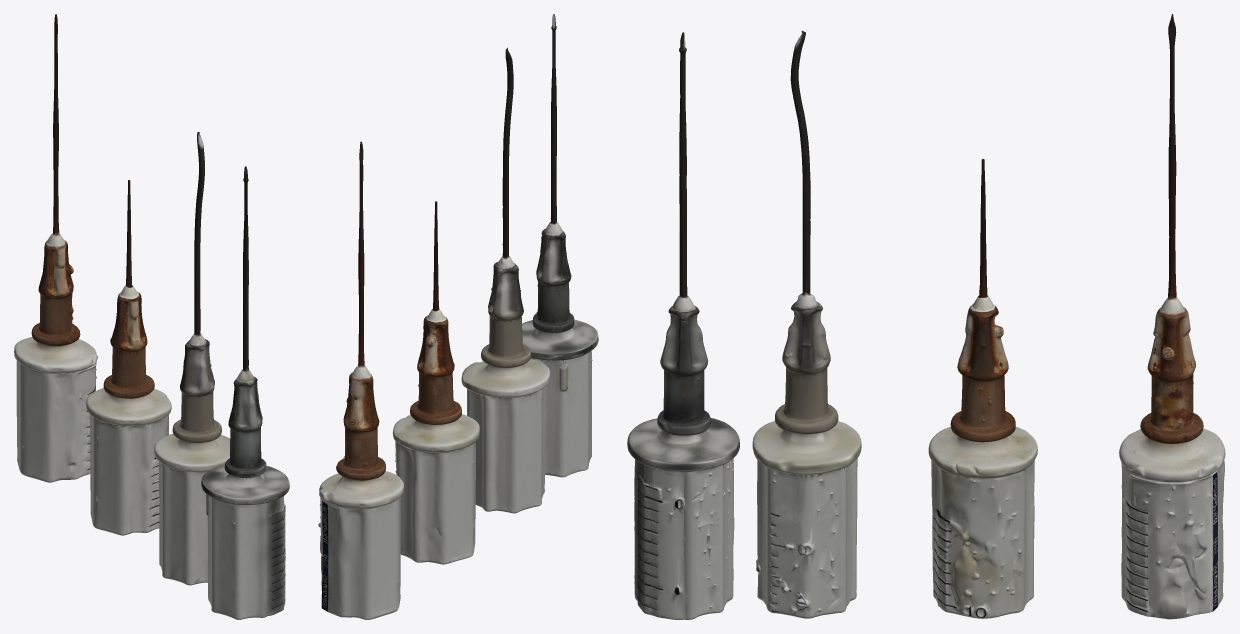
3 views of the same model, side by side, from view 1: azimuth 30°, elevation 25°; view 2: azimuth 150°, elevation 25°; view 3: azimuth 270°, elevation 25° (orthographic). The views are drawn at different scales.
Parts seen in each view (by area): view 1: tripo_node_c13f57f1-0d10-4408-a96c-8f915f3494f5; view 2: tripo_node_c13f57f1-0d10-4408-a96c-8f915f3494f5; view 3: tripo_node_c13f57f1-0d10-4408-a96c-8f915f3494f5.
Boxes of the visible parts, x1,y1,x2,y2 form: tripo_node_c13f57f1-0d10-4408-a96c-8f915f3494f5: (14, 14, 289, 619); tripo_node_c13f57f1-0d10-4408-a96c-8f915f3494f5: (318, 14, 598, 619); tripo_node_c13f57f1-0d10-4408-a96c-8f915f3494f5: (627, 14, 1225, 619).
Size of the model in its own units: 0.1753 by 0.9999 by 0.9261.
1 material, 1 textured.
